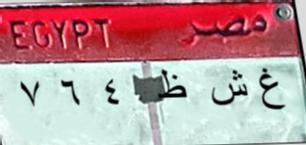4: (102, 75, 121, 112)
6: (58, 75, 82, 111)
7: (17, 78, 43, 110)
Thaa: (158, 66, 190, 108)
ghayn: (257, 63, 288, 115)
sheen: (208, 68, 251, 110)
